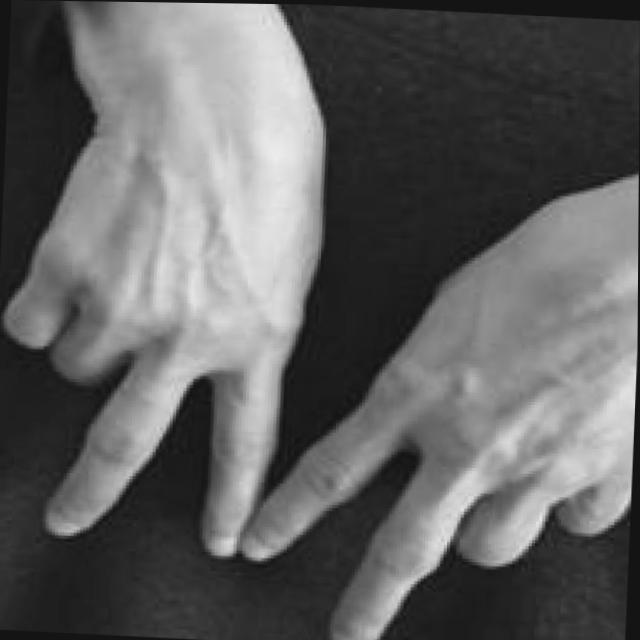M: (0, 23, 640, 640)
